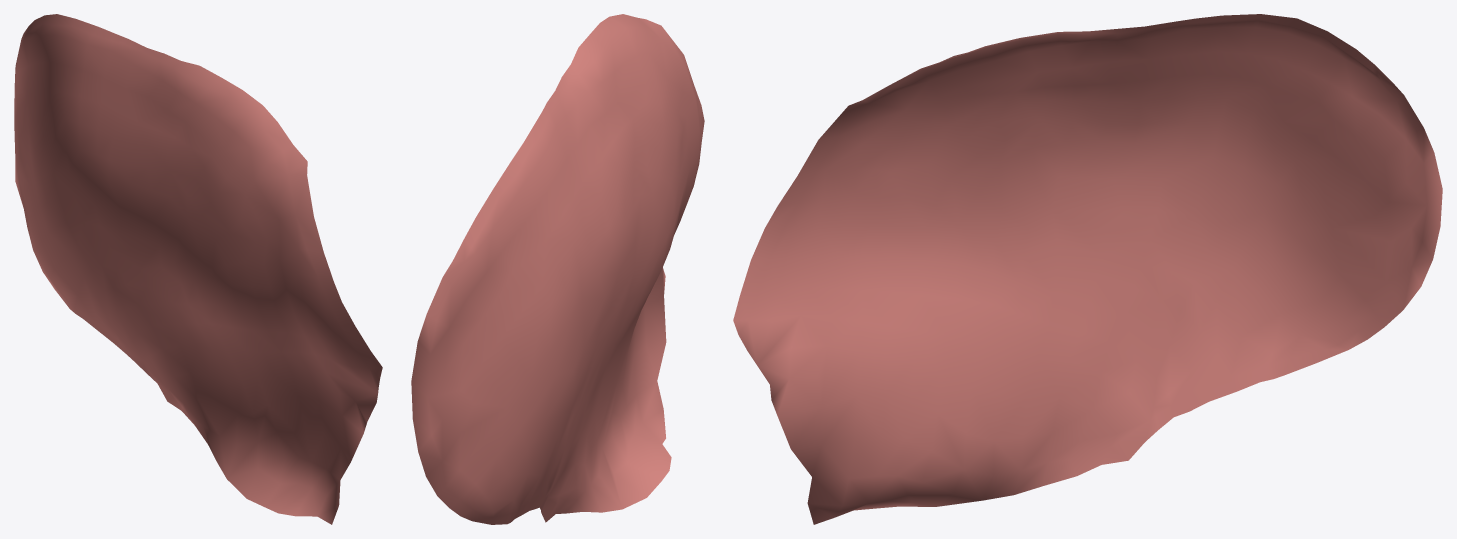
The picture shows the model from 3 angles, left to right: view 1: azimuth 30°, elevation 25°; view 2: azimuth 150°, elevation 25°; view 3: azimuth 270°, elevation 25°; orthographic projection. The views are drawn at different scales.
Parts seen in each view (by area): view 1: ZA_6a392e55504792a8; view 2: ZA_6a392e55504792a8; view 3: ZA_6a392e55504792a8.
Part boxes in pixels (x1,y1,x2,y2): ZA_6a392e55504792a8: [14, 14, 382, 524]; ZA_6a392e55504792a8: [411, 14, 704, 524]; ZA_6a392e55504792a8: [733, 14, 1442, 524].
Size of the model in its own units: 0.0285 by 0.0845 by 0.1138.
